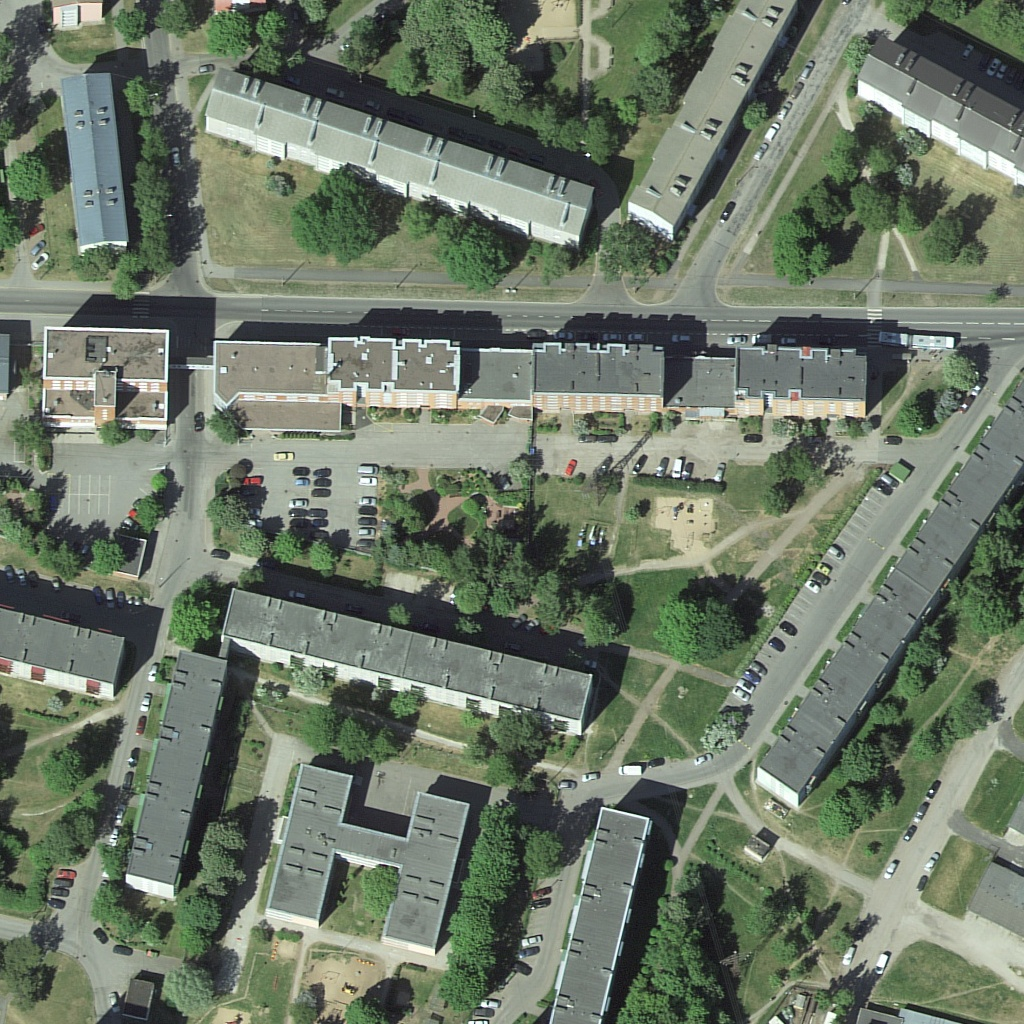building: (750, 367, 1024, 804), (203, 64, 595, 250), (222, 588, 596, 736), (624, 2, 802, 245), (115, 649, 228, 901), (854, 30, 1024, 182), (547, 801, 656, 1024), (264, 758, 360, 931), (378, 791, 471, 959), (40, 324, 171, 435), (57, 70, 129, 255), (1, 604, 130, 695), (530, 337, 670, 418), (325, 335, 464, 413), (735, 344, 867, 421), (211, 335, 324, 404)
